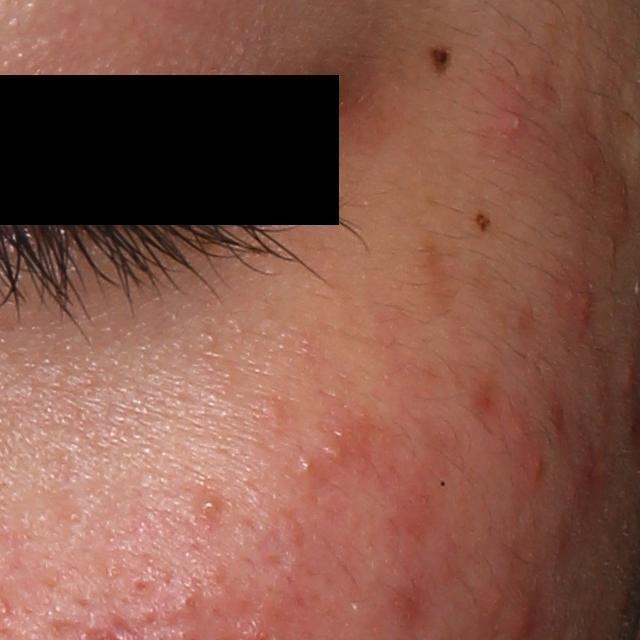nevus: (424, 37, 451, 72), (471, 206, 494, 236)
papule: (558, 284, 598, 327)
